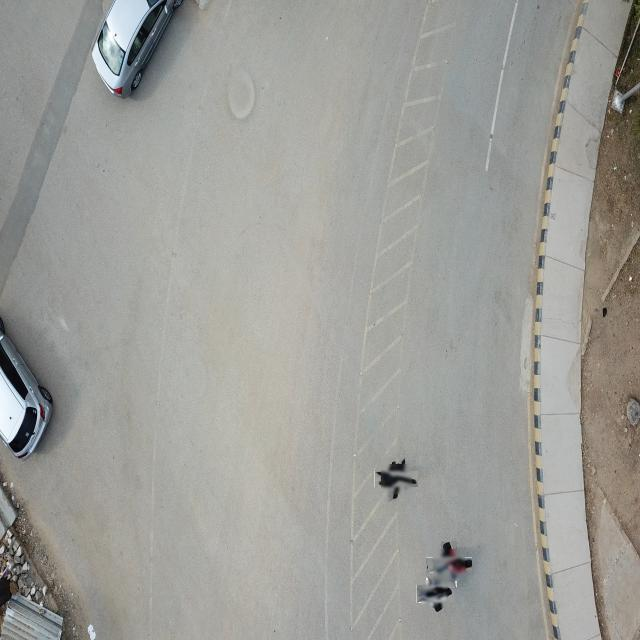Manusia: (433, 549, 466, 582), (381, 464, 413, 495), (421, 580, 449, 609)
